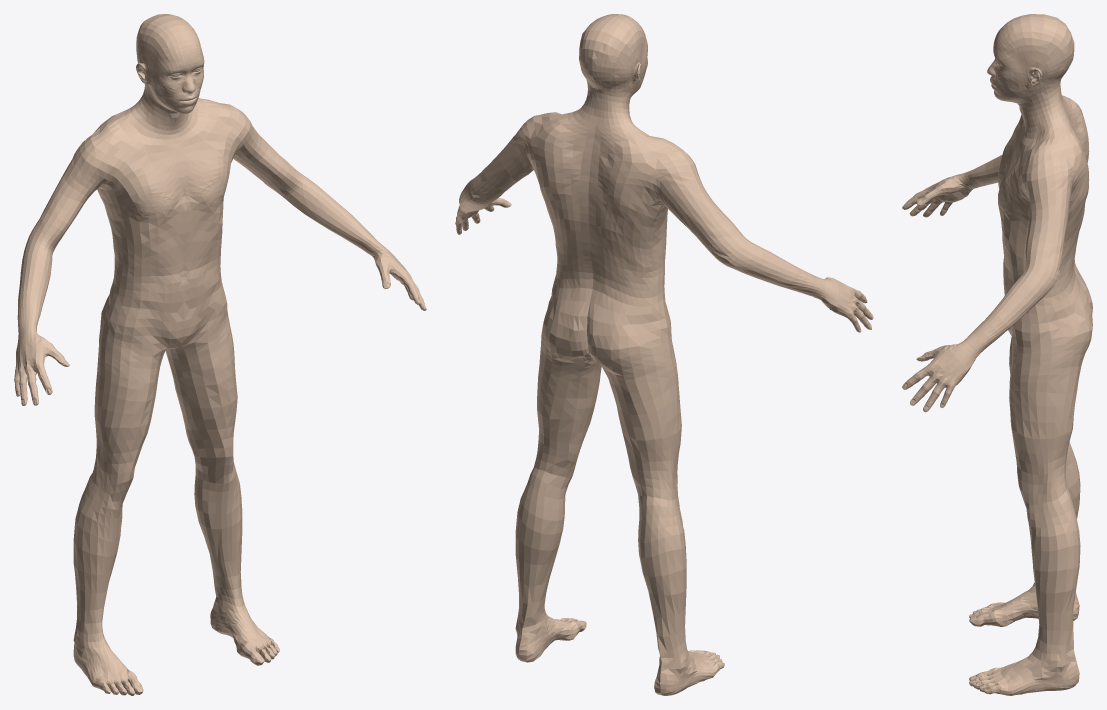
File: male-young-lean-medium.glb
3 views of the same model, side by side, from view 1: azimuth 30°, elevation 25°; view 2: azimuth 150°, elevation 25°; view 3: azimuth 270°, elevation 25° (orthographic).
Parts seen in each view (by area): view 1: world; view 2: world; view 3: world.
Boxes of the visible parts, x1=… form: world: x1=14, y1=14, x2=426, y2=695; world: x1=455, y1=14, x2=873, y2=695; world: x1=902, y1=14, x2=1092, y2=695.
Bounding box in the file's own units: 1.26 × 1.92 × 0.5192.
